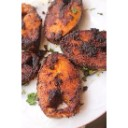seerfish: (38, 52, 81, 116), (60, 30, 109, 70), (43, 1, 83, 42), (22, 3, 41, 49), (23, 49, 39, 86)
